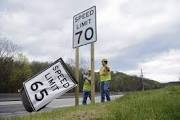speedLimit70: (73, 6, 97, 46)
